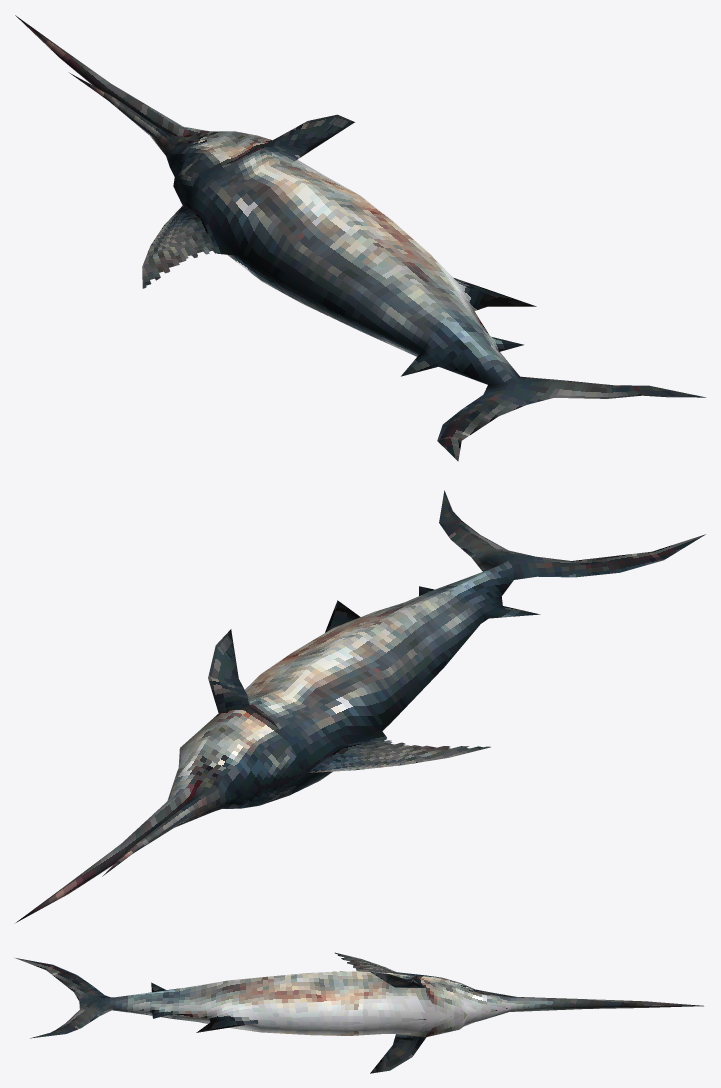
3 views of the same model, one above another, from view 1: azimuth 30°, elevation 25°; view 2: azimuth 150°, elevation 25°; view 3: azimuth 270°, elevation 25° (orthographic). The views are drawn at different scales.
Parts seen in each view (by area): view 1: weapon/we119.pac; view 2: weapon/we119.pac; view 3: weapon/we119.pac.
Boxes of the visible parts, x1=… form: weapon/we119.pac: x1=15, y1=15, x2=706, y2=461; weapon/we119.pac: x1=16, y1=490, x2=705, y2=922; weapon/we119.pac: x1=14, y1=952, x2=703, y2=1073.
Bounding box in the file's own units: 93.23 × 49.73 × 306.
1 material, 1 textured.
